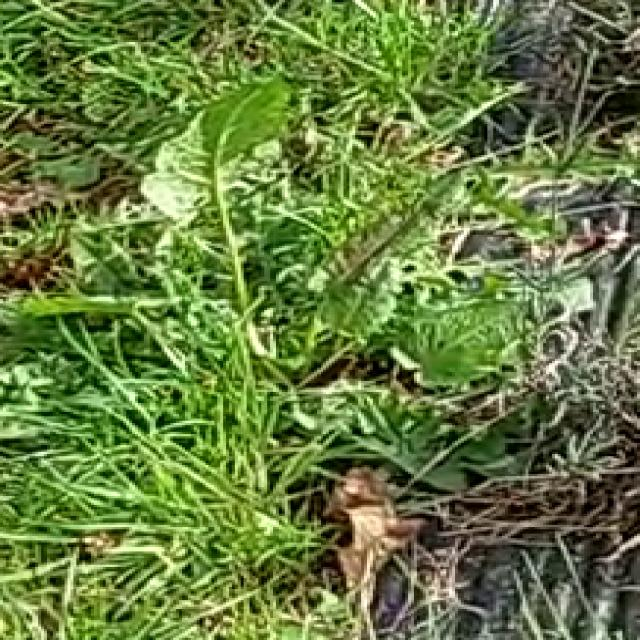organic waste: (29, 36, 470, 386)
